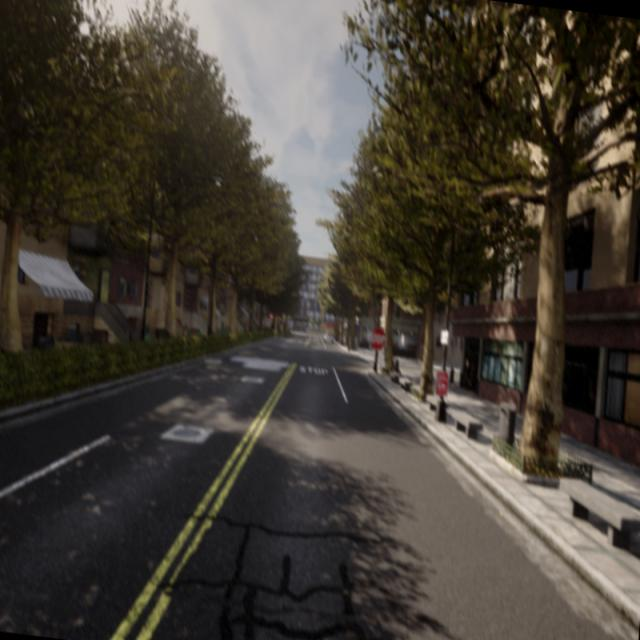stop sign: (368, 324, 386, 351)
